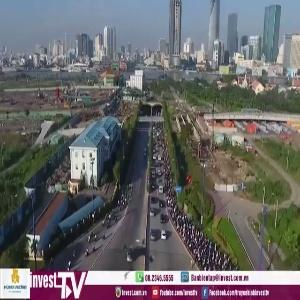drone: (97, 214, 178, 295)
